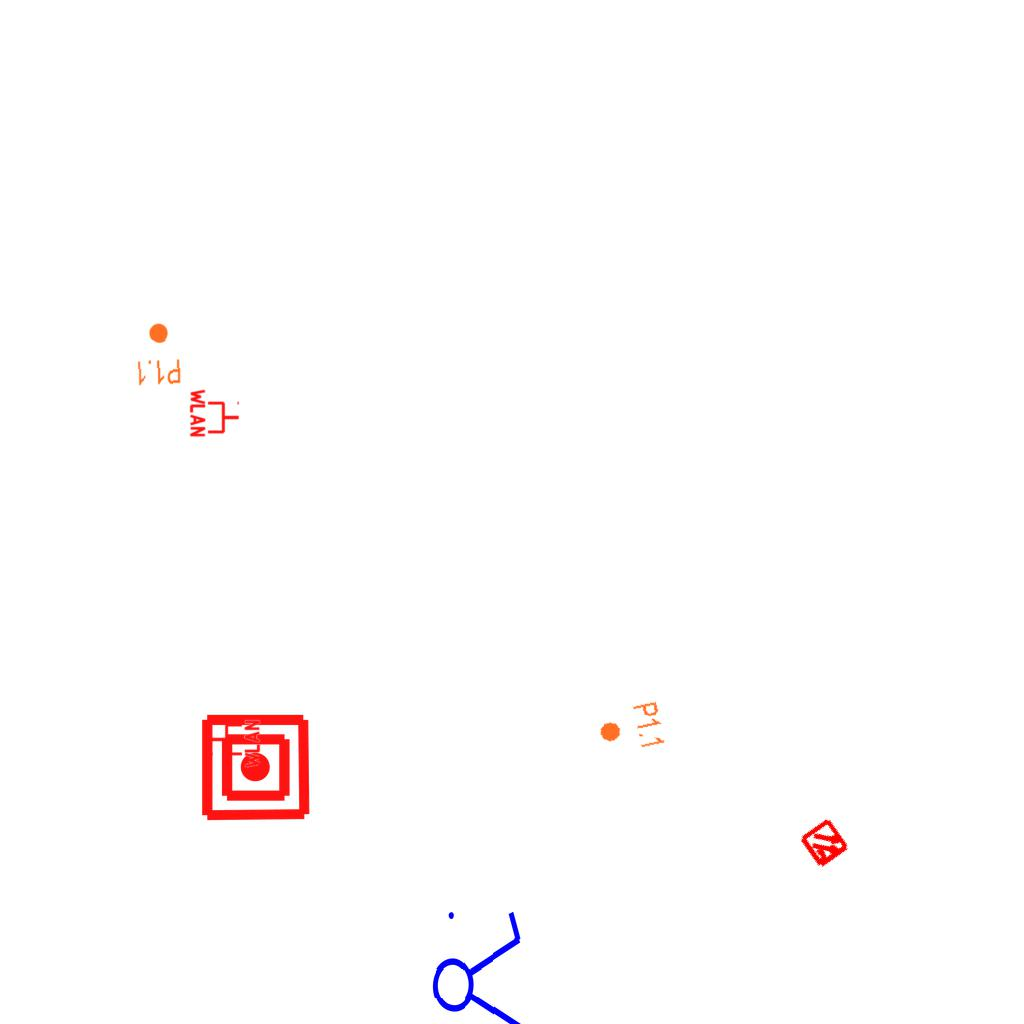Downlight_LED_Einbauleuchten_Flur: (594, 699, 668, 759), (133, 321, 183, 387)
NAM-Nichtautomatischer_Melder: (199, 711, 312, 824)
OT_Multisensormelder_(Kombination_RMO_WMD): (786, 805, 864, 883)
Serienschalter: (428, 897, 530, 1024)
WLAN: (189, 387, 241, 439), (209, 718, 261, 770)
